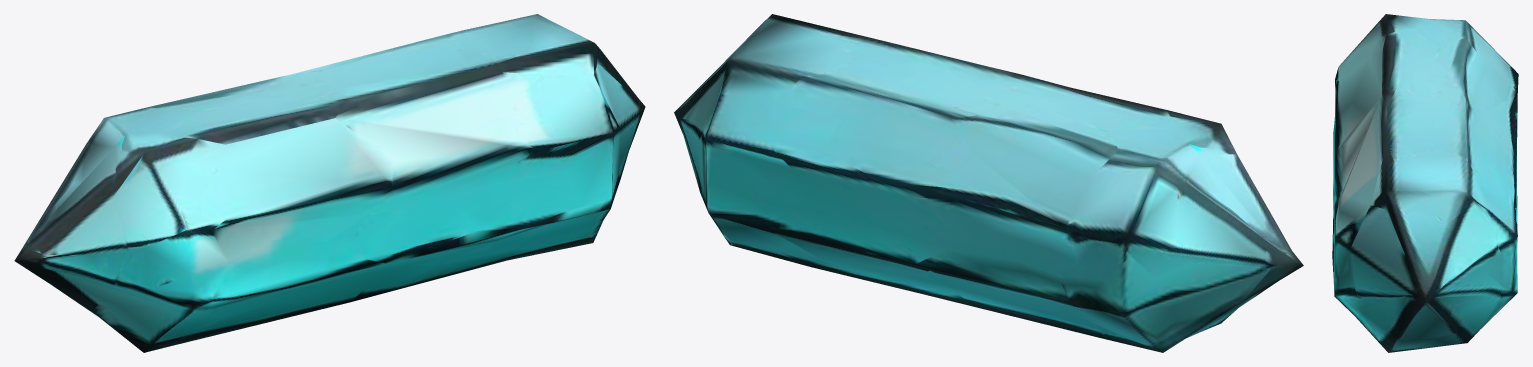
File: GW_FX3D_ice_spear.glb
3 renders of one model, left to right at view 1: azimuth 30°, elevation 25°; view 2: azimuth 150°, elevation 25°; view 3: azimuth 270°, elevation 25°, orthographic. The views are drawn at different scales.
Visible parts, largest first — view 1: tripo_node_8338ce0b-0542-4ef8-925d-56ac01249f92; view 2: tripo_node_8338ce0b-0542-4ef8-925d-56ac01249f92; view 3: tripo_node_8338ce0b-0542-4ef8-925d-56ac01249f92.
Part boxes in pixels (x1,y1,x2,y2): tripo_node_8338ce0b-0542-4ef8-925d-56ac01249f92: (14, 14, 645, 352); tripo_node_8338ce0b-0542-4ef8-925d-56ac01249f92: (674, 14, 1303, 352); tripo_node_8338ce0b-0542-4ef8-925d-56ac01249f92: (1332, 14, 1518, 352).
Bounding box in the file's own units: 1 × 0.3056 × 0.317.
Materials: 1 (1 with a texture image).
